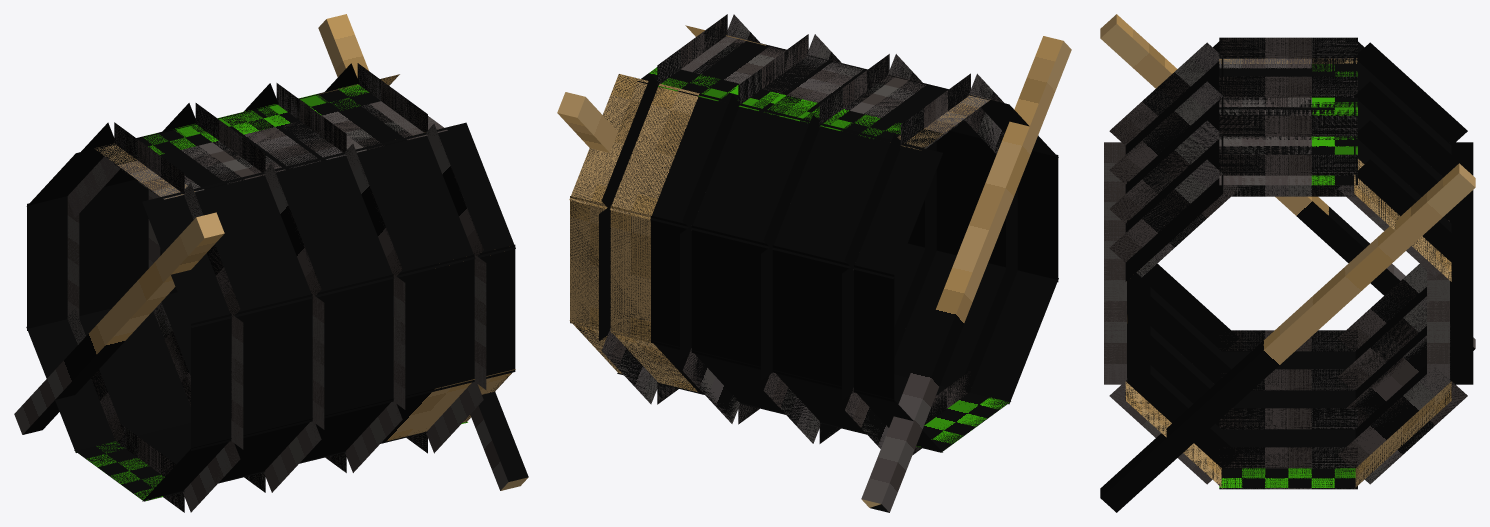
The model's file is barbed_wire_poison.obj.
The picture shows the model from 3 angles, left to right: view 1: azimuth 30°, elevation 25°; view 2: azimuth 150°, elevation 25°; view 3: azimuth 270°, elevation 25°; orthographic projection.
Parts seen in each view (by area): view 1: barbed_wire_poison; view 2: barbed_wire_poison; view 3: barbed_wire_poison.
Boxes of the visible parts, left/top/right/bottom form: barbed_wire_poison: left=14, top=14, right=528, bottom=512; barbed_wire_poison: left=557, top=14, right=1071, bottom=512; barbed_wire_poison: left=1100, top=14, right=1475, bottom=512.
Bounding box in the file's own units: 1 × 1.03 × 1.02.
